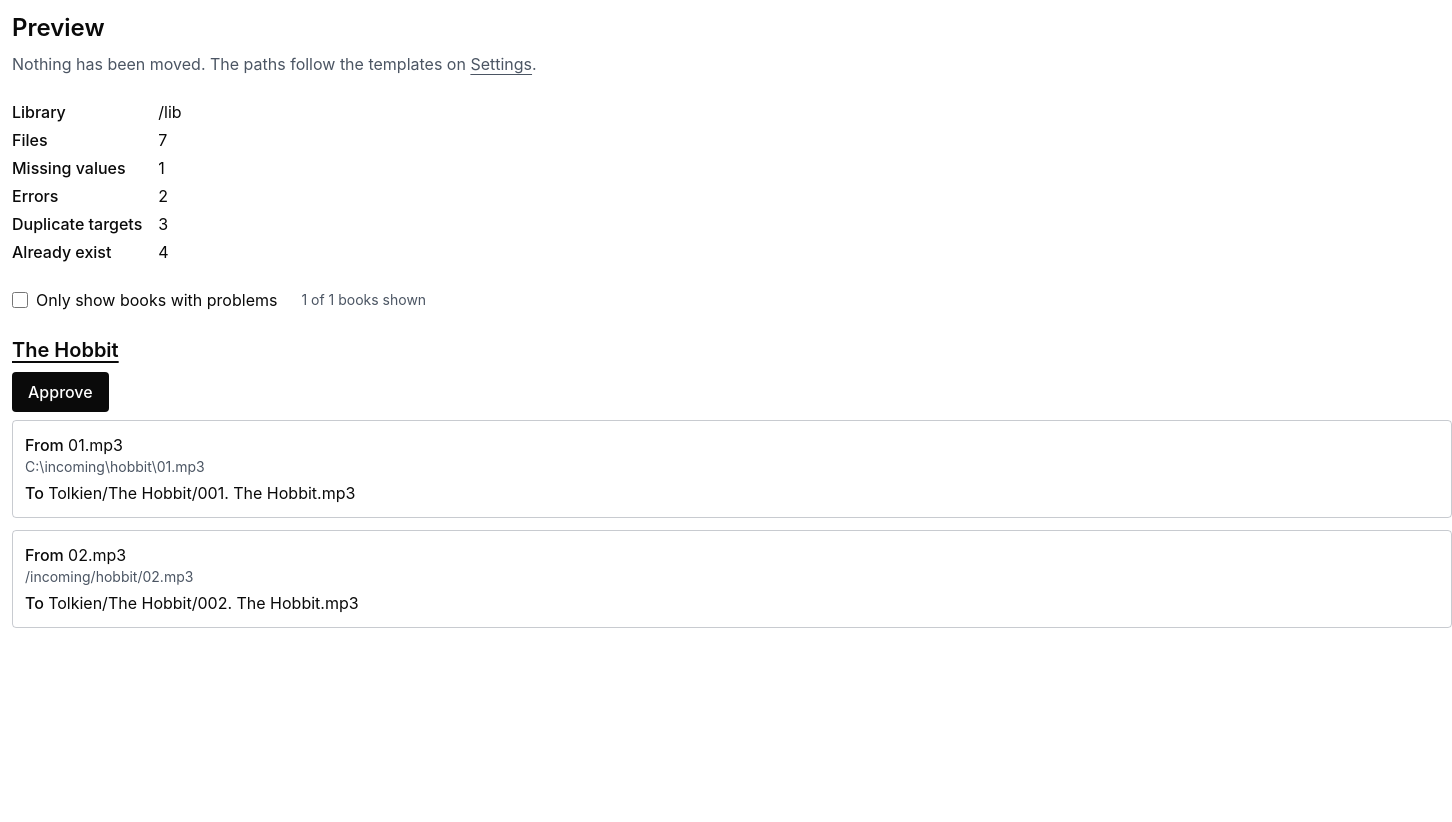
Test: PreviewPage › shows a refusal in an alert and keeps the button enabled
Click the button "Approve" at (60, 392), box x1=12 y1=372 x2=109 y2=412
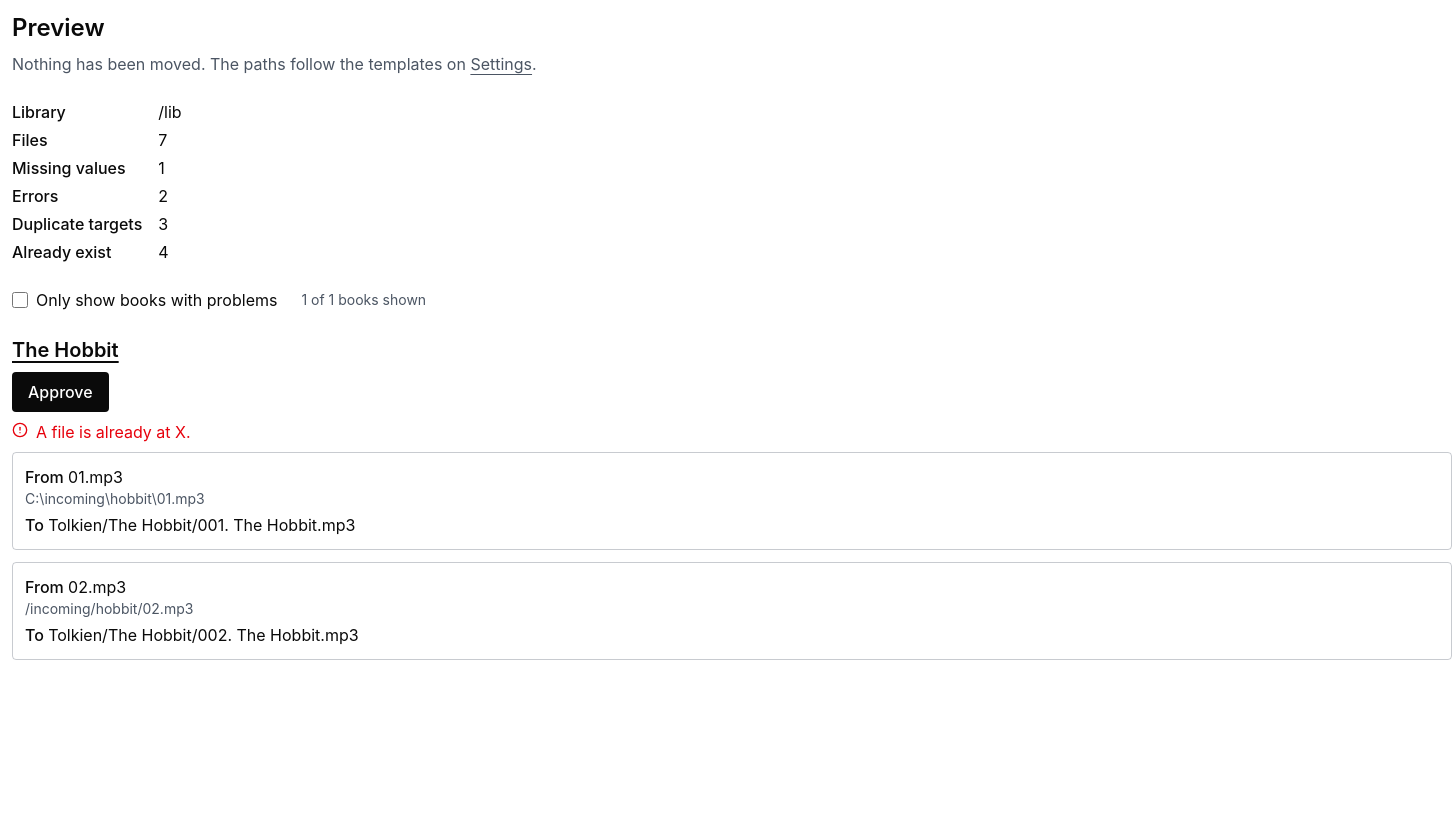
Now the message "A file is already at X." is shown, box x1=12 y1=422 x2=191 y2=442
